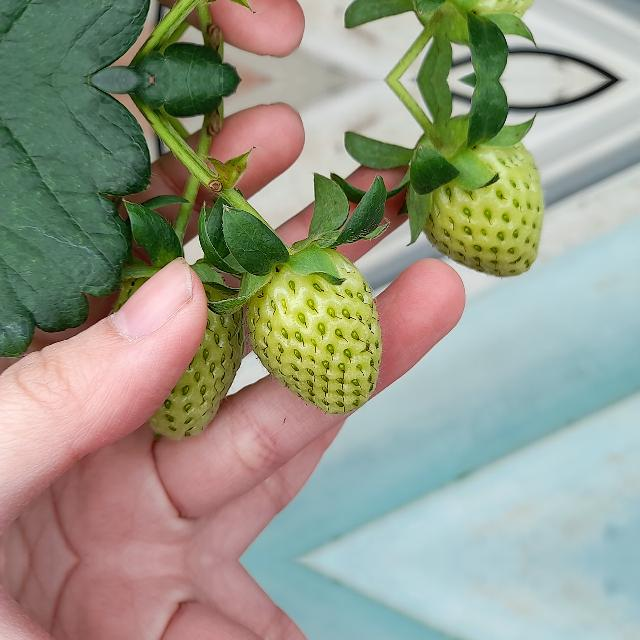Health_25: (246, 248, 382, 414), (406, 124, 544, 280), (406, 0, 543, 35)
